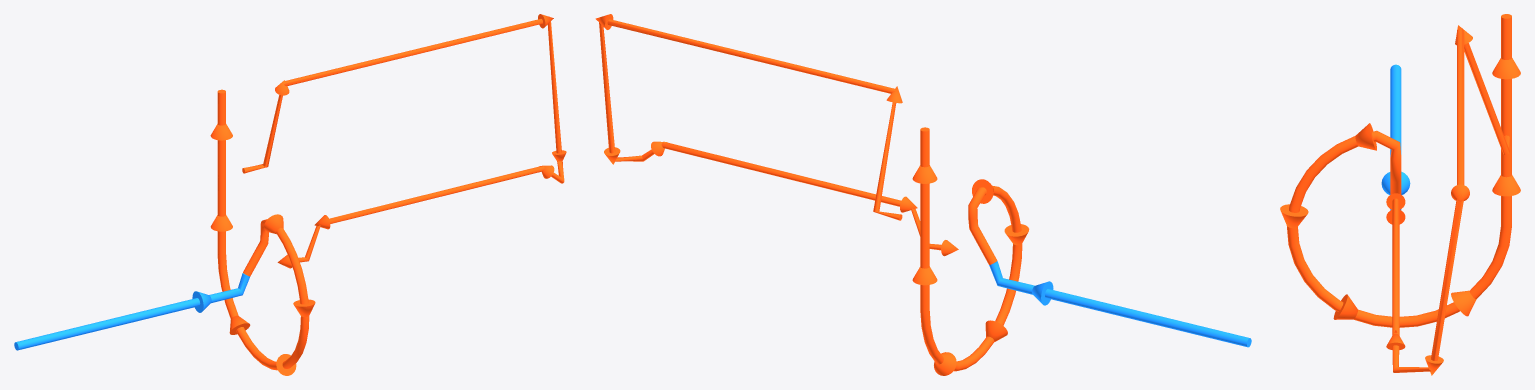
The model's file is canned_motor_pump_flow.glb.
The picture shows the model from 3 angles, left to right: view 1: azimuth 30°, elevation 25°; view 2: azimuth 150°, elevation 25°; view 3: azimuth 270°, elevation 25°; orthographic projection. The views are drawn at different scales.
Parts seen in each view (by area): view 1: flow_discharge, flow_circulation, flow_suction; view 2: flow_discharge, flow_circulation, flow_suction; view 3: flow_discharge, flow_circulation, flow_suction.
Boxes of the visible parts, x1,y1,x2,y2 form: flow_discharge: [210, 89, 315, 375]; flow_circulation: [242, 14, 566, 268]; flow_suction: [14, 273, 249, 350]; flow_discharge: [912, 127, 1029, 375]; flow_circulation: [595, 14, 958, 256]; flow_suction: [989, 261, 1251, 347]; flow_discharge: [1280, 14, 1520, 327]; flow_circulation: [1386, 25, 1510, 375]; flow_suction: [1381, 64, 1410, 210].
Size of the model in its own units: 0.9074 by 0.3975 by 0.2611.
